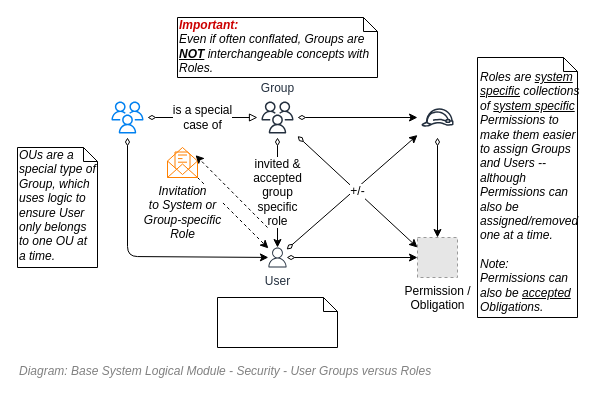
This 599x399 diagram has some shape labels left out. Grey dashed boxes stand in for pictures. The box of each missing label's shape, as (x1, y1, x2, y2) in pixels:
Organisation Unit (OU): (106, 96, 148, 138)
Role: (416, 96, 458, 138)
Users generally belong to several Groups: (216, 296, 338, 348)
